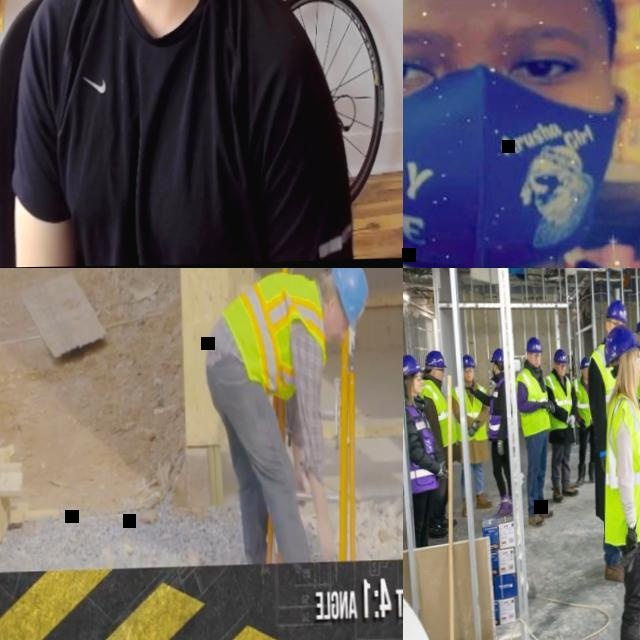Hardhat: (326, 268, 369, 337), (602, 323, 640, 369), (604, 299, 628, 325), (403, 353, 424, 377), (423, 350, 446, 367), (524, 336, 543, 353), (552, 348, 567, 363), (488, 348, 502, 363), (461, 354, 474, 368), (577, 356, 589, 371), (633, 320, 640, 334), (566, 354, 573, 360)
Mask: (403, 63, 626, 268), (491, 364, 496, 377)
NO-Mask: (324, 307, 338, 343), (413, 381, 422, 394), (528, 359, 540, 368), (463, 373, 474, 382), (435, 374, 443, 384), (636, 369, 640, 387), (556, 369, 564, 377), (582, 373, 587, 380), (638, 339, 640, 347)
NO-Safety Vest: (59, 0, 287, 267)
Person: (0, 0, 355, 268), (403, 0, 640, 268), (202, 268, 372, 568), (597, 321, 640, 640), (585, 299, 633, 582), (403, 352, 449, 548), (466, 347, 513, 522), (514, 335, 557, 526), (418, 350, 456, 538), (450, 353, 491, 518), (543, 348, 578, 504), (570, 355, 595, 488), (633, 318, 640, 414), (564, 354, 576, 380)
Safety Vest: (221, 272, 326, 394), (601, 390, 640, 544), (403, 401, 439, 495), (418, 377, 456, 447), (514, 368, 551, 438), (588, 341, 619, 423), (451, 383, 487, 441), (544, 372, 573, 432), (486, 376, 506, 442), (570, 377, 592, 428), (635, 349, 640, 399), (568, 362, 576, 380)
